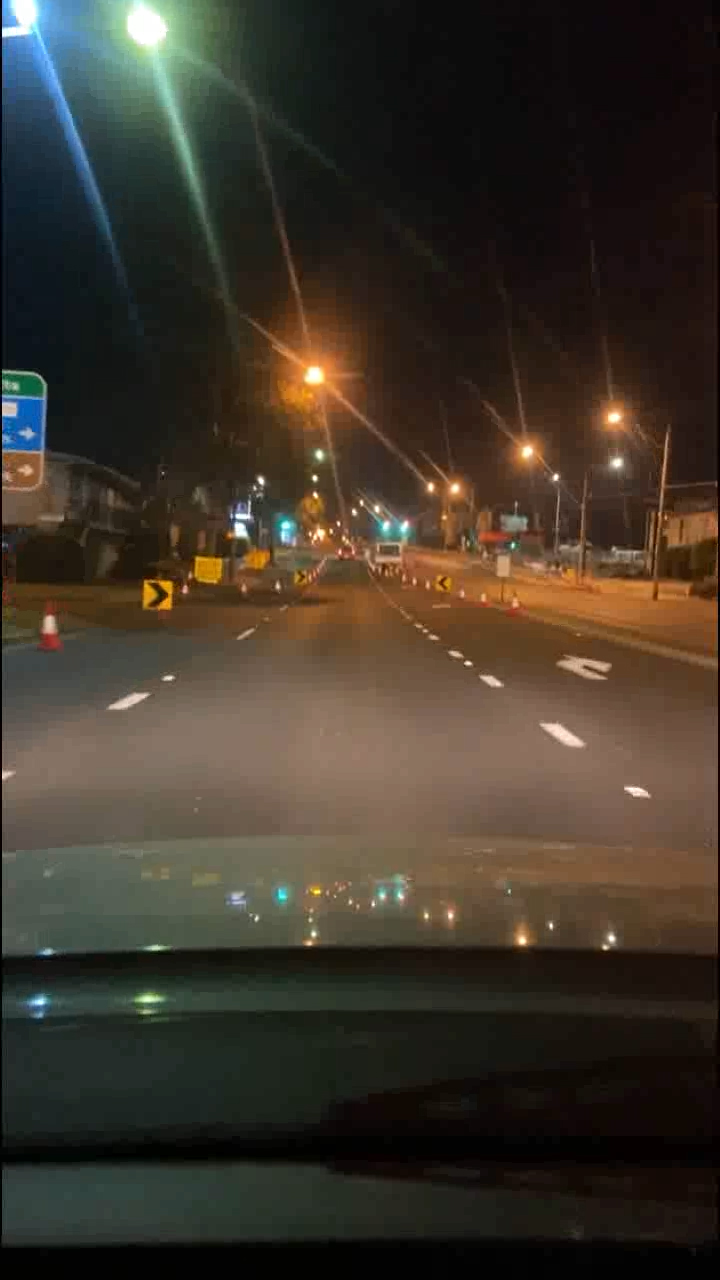road cone: (39, 600, 60, 652)
road works sign board: (143, 583, 174, 611), (193, 559, 224, 581), (435, 579, 450, 592), (297, 575, 308, 584)
